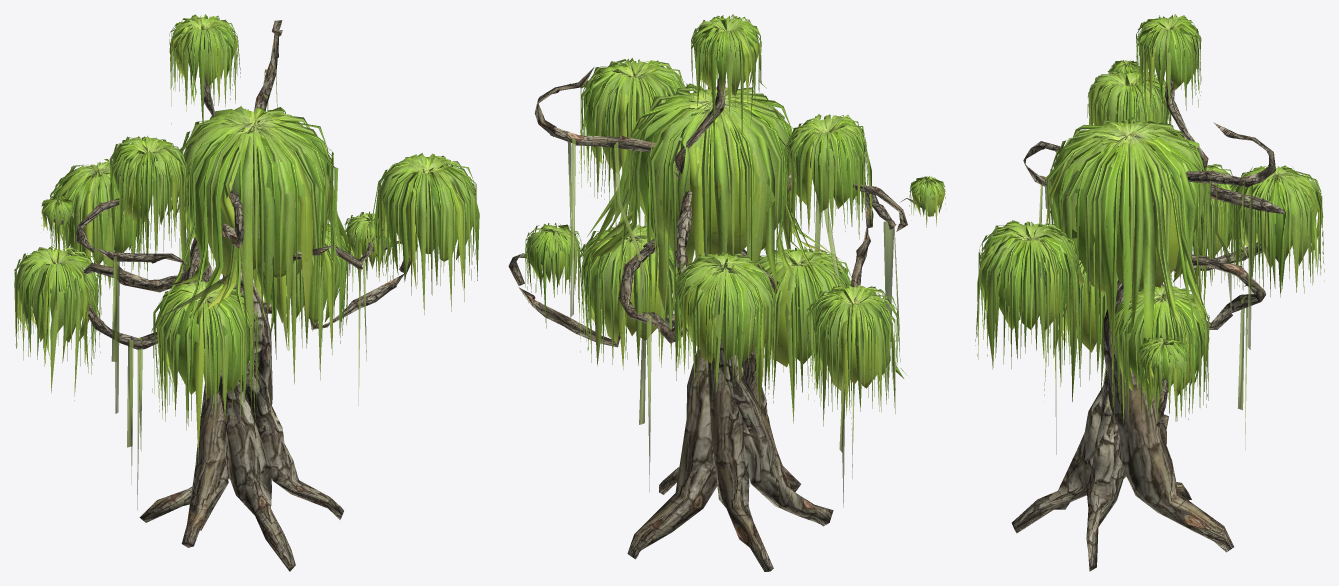
The model's file is fantasy_jungle_tree.glb.
3 views of the same model, side by side, from view 1: azimuth 30°, elevation 25°; view 2: azimuth 150°, elevation 25°; view 3: azimuth 270°, elevation 25° (orthographic). The views are drawn at different scales.
Parts seen in each view (by area): view 1: Object_5, Object_2, Object_4; view 2: Object_5, Object_2, Object_4; view 3: Object_5, Object_2, Object_4.
Boxes of the visible parts, x1,y1,x2,y2 form: Object_5: [14, 14, 479, 456]; Object_2: [53, 20, 415, 571]; Object_4: [111, 69, 366, 510]; Object_5: [525, 14, 945, 426]; Object_2: [508, 67, 927, 571]; Object_4: [567, 136, 899, 507]; Object_5: [975, 14, 1324, 426]; Object_2: [1012, 71, 1285, 571]; Object_4: [1039, 175, 1252, 454].
Bounding box in the file's own units: 4.78 × 5.89 × 3.68.
3 materials, 3 textured.
